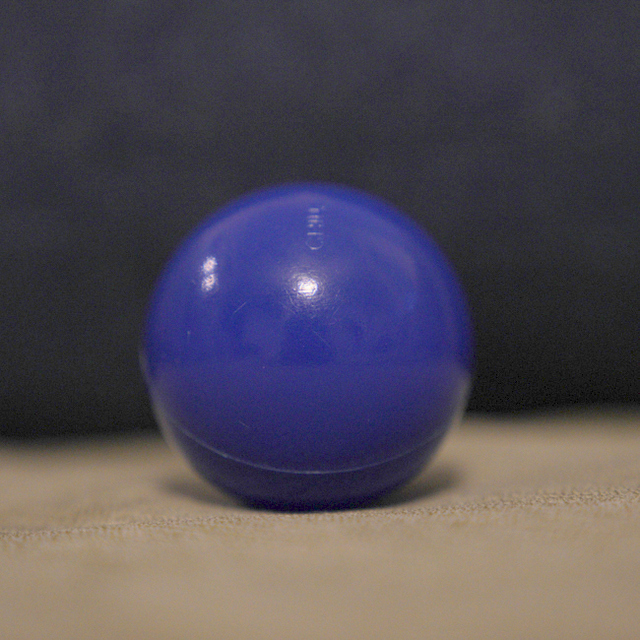Ball: (142, 183, 474, 513)
